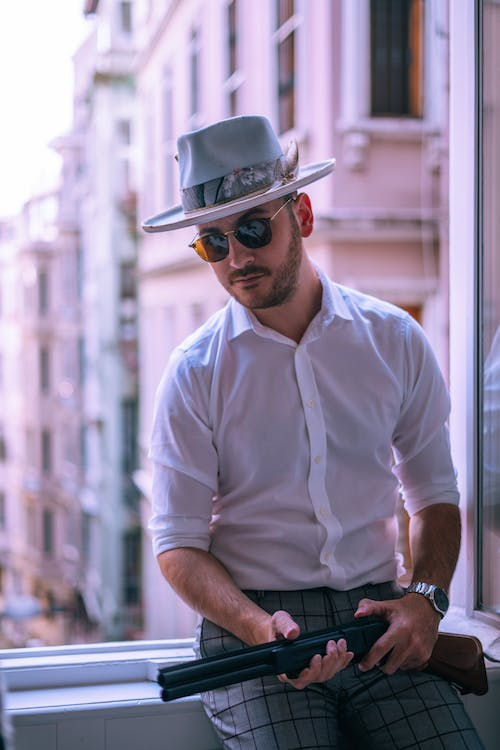gun: (153, 611, 492, 707)
